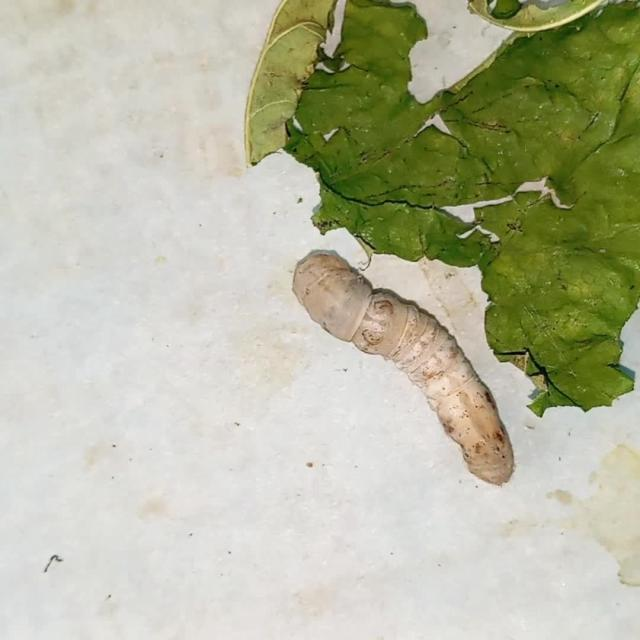Grasserie: (262, 228, 572, 540)
